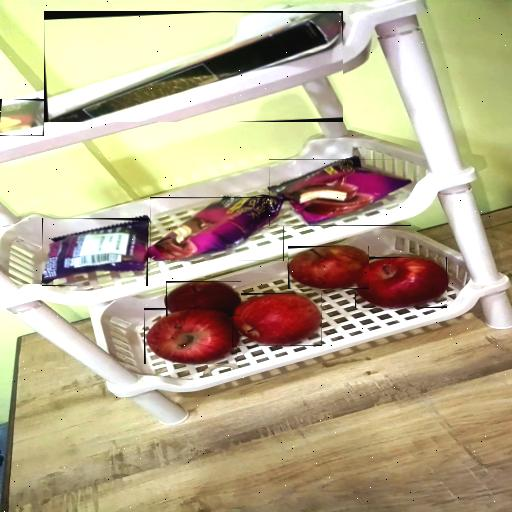Apple: (144, 308, 237, 364), (232, 293, 322, 346), (355, 257, 447, 308), (288, 246, 369, 289), (166, 281, 241, 316)
Choco Fills: (44, 11, 343, 122), (0, 99, 44, 136)
Choco Pie: (269, 159, 411, 226), (150, 197, 284, 261), (42, 218, 148, 286)
